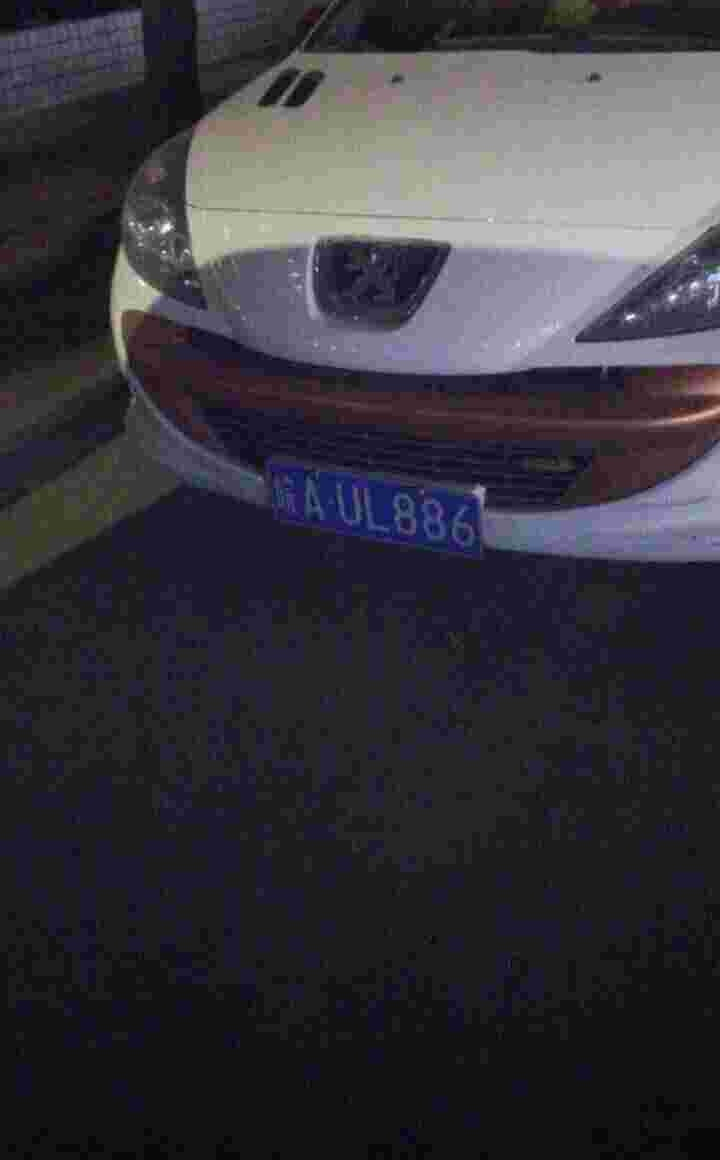license_plate: (272, 459, 483, 555)
